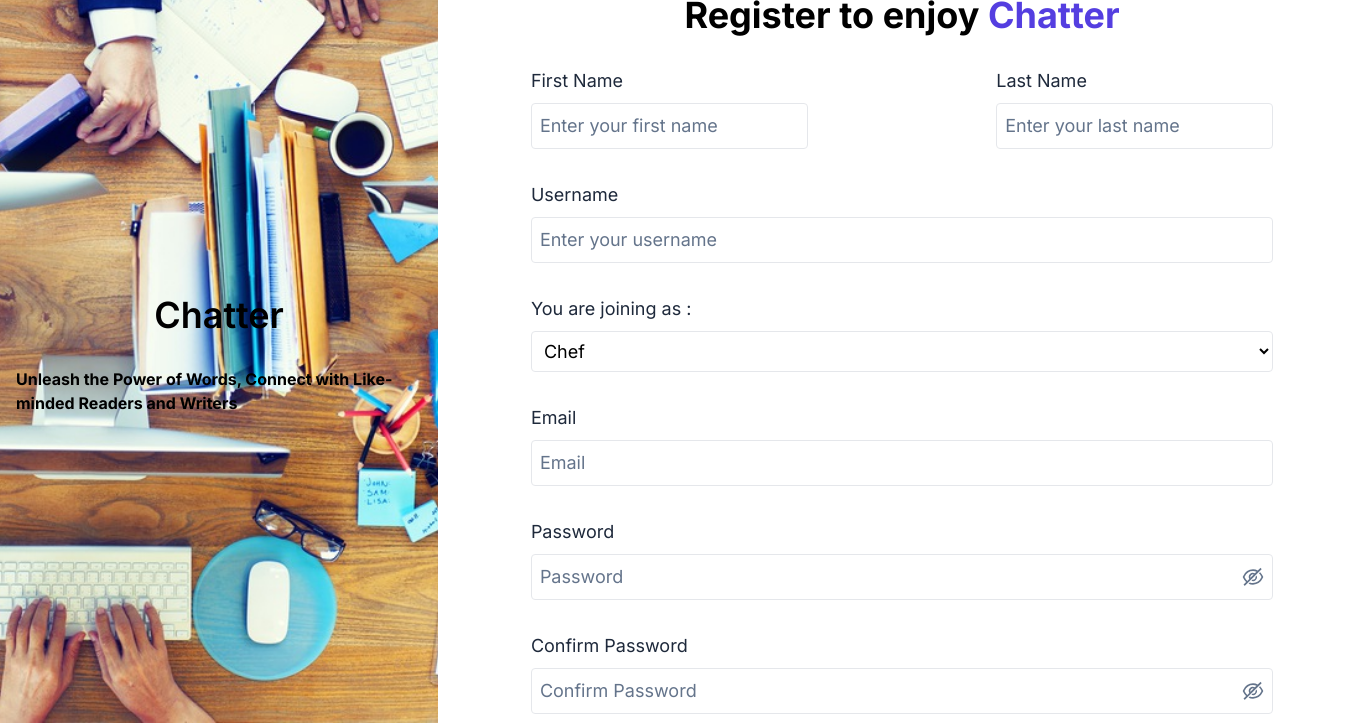
Sign Up Page › signup functionality › signup with invalid email
Type "test.com" into the field with id "email".
click(902, 463); type("test.com")  # box [531,440,1273,486]
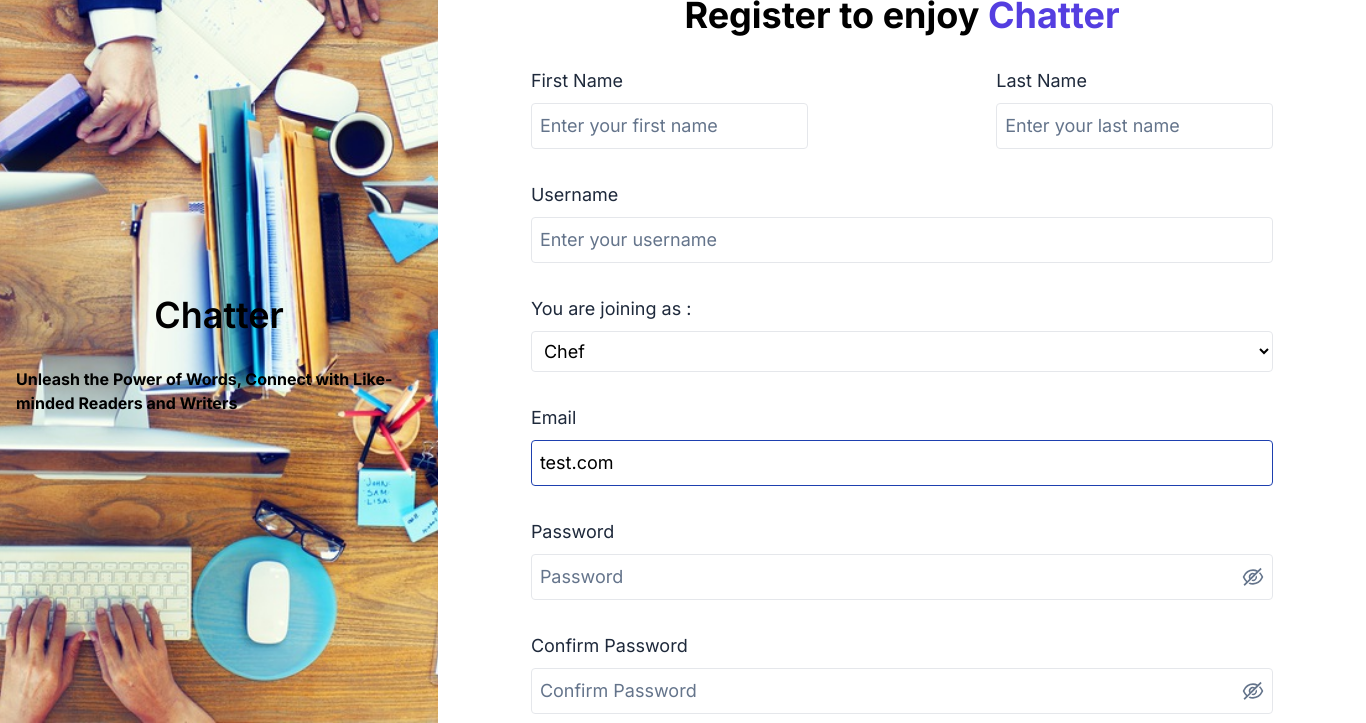
Scroll
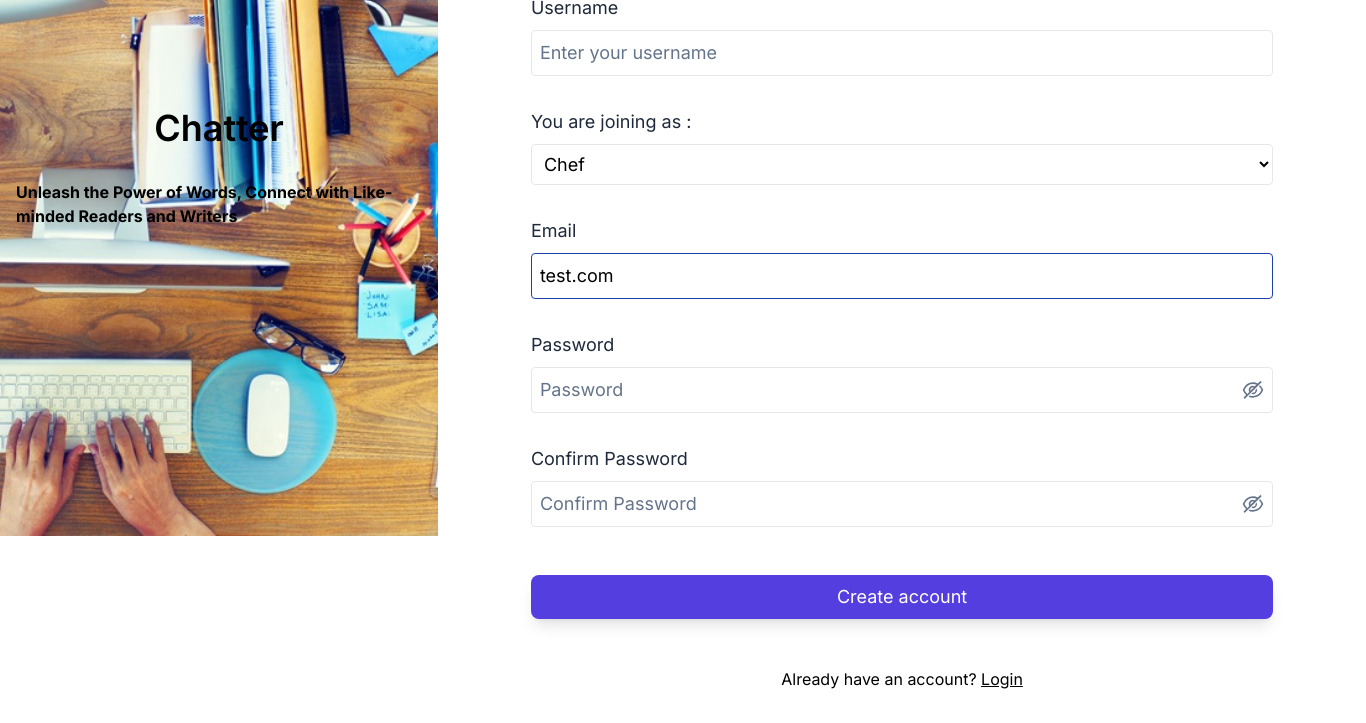
Click the button "Create account".
click(902, 597)  # box [531,575,1273,619]
(page scrolled)
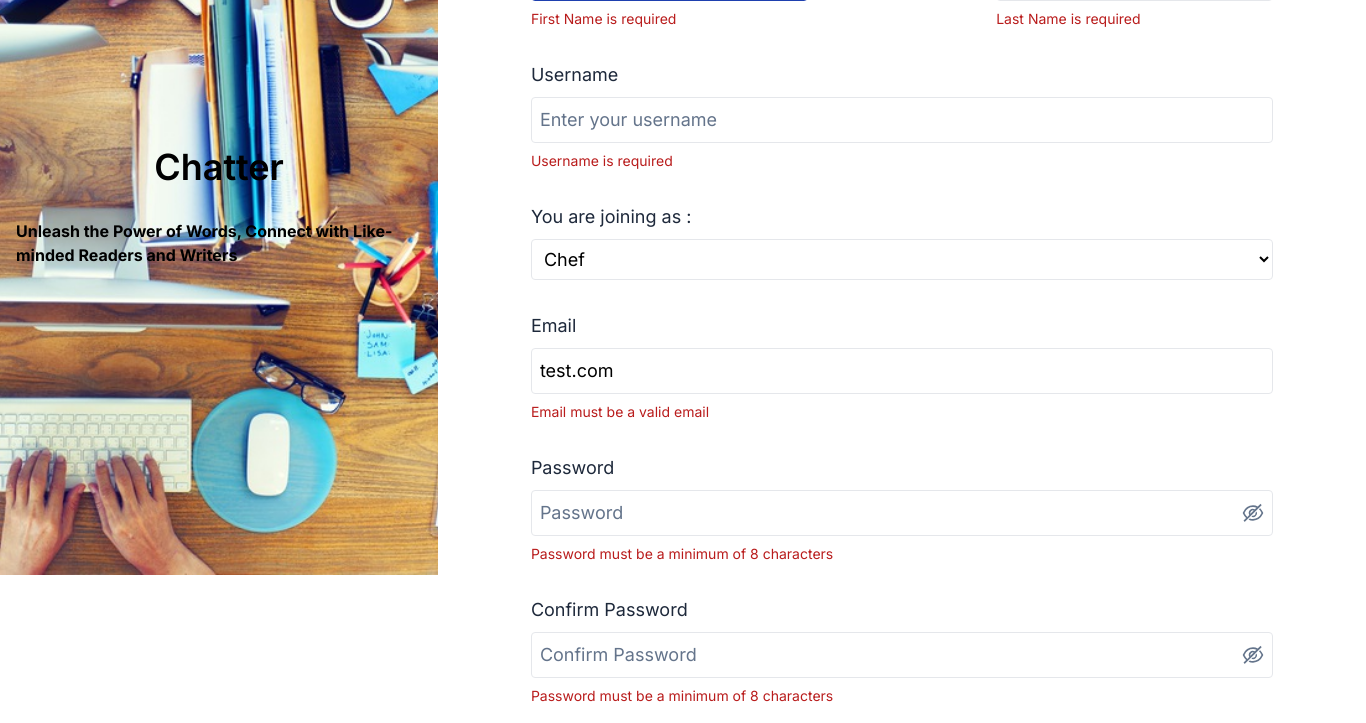
Check: the message "First Name is required" is shown, box [531,10,676,27]
